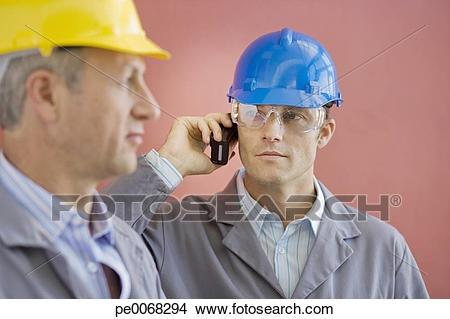helmet: (0, 0, 175, 62), (225, 27, 345, 109)
